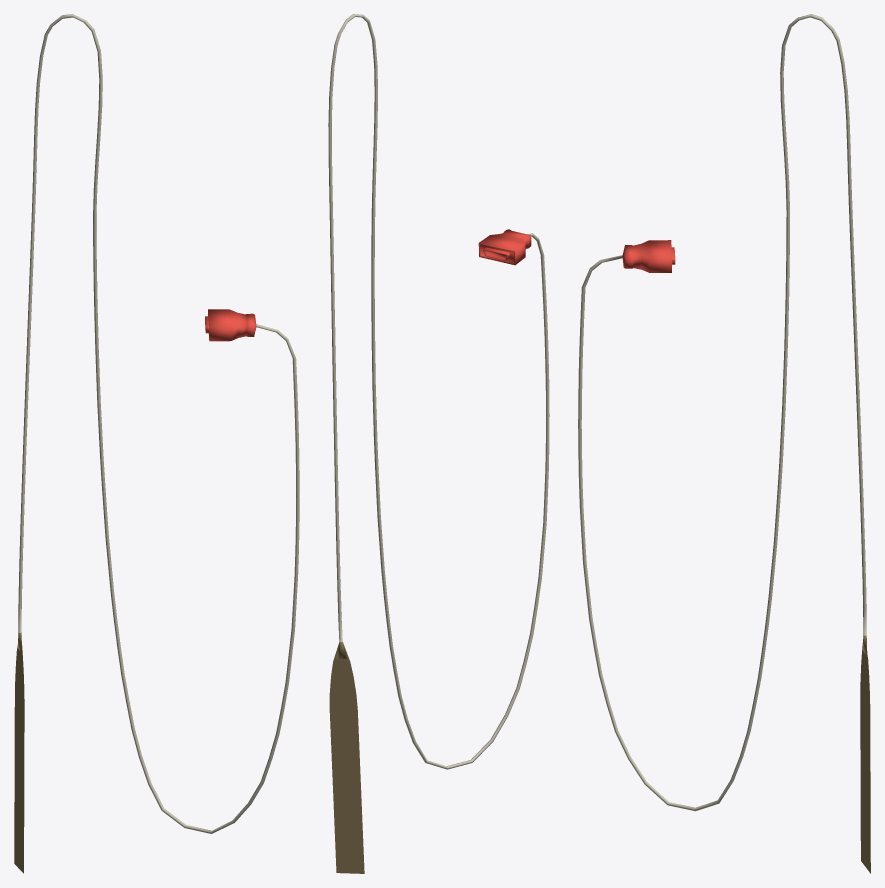
File: OximetroCable.fbx
The picture shows the model from 3 angles, left to right: view 1: azimuth 90°, elevation 25°; view 2: azimuth 150°, elevation 25°; view 3: azimuth 270°, elevation 25°; orthographic projection. The views are drawn at different scales.
Visible parts, largest first — view 1: OximetroCable.001; view 2: OximetroCable.001; view 3: OximetroCable.001.
Boxes of the visible parts, box(x1,y1,x2,y2) form: OximetroCable.001: box(14, 14, 299, 873); OximetroCable.001: box(328, 14, 549, 873); OximetroCable.001: box(578, 14, 870, 873).
Bounding box in the file's own units: 9.88 × 77.72 × 23.83.
